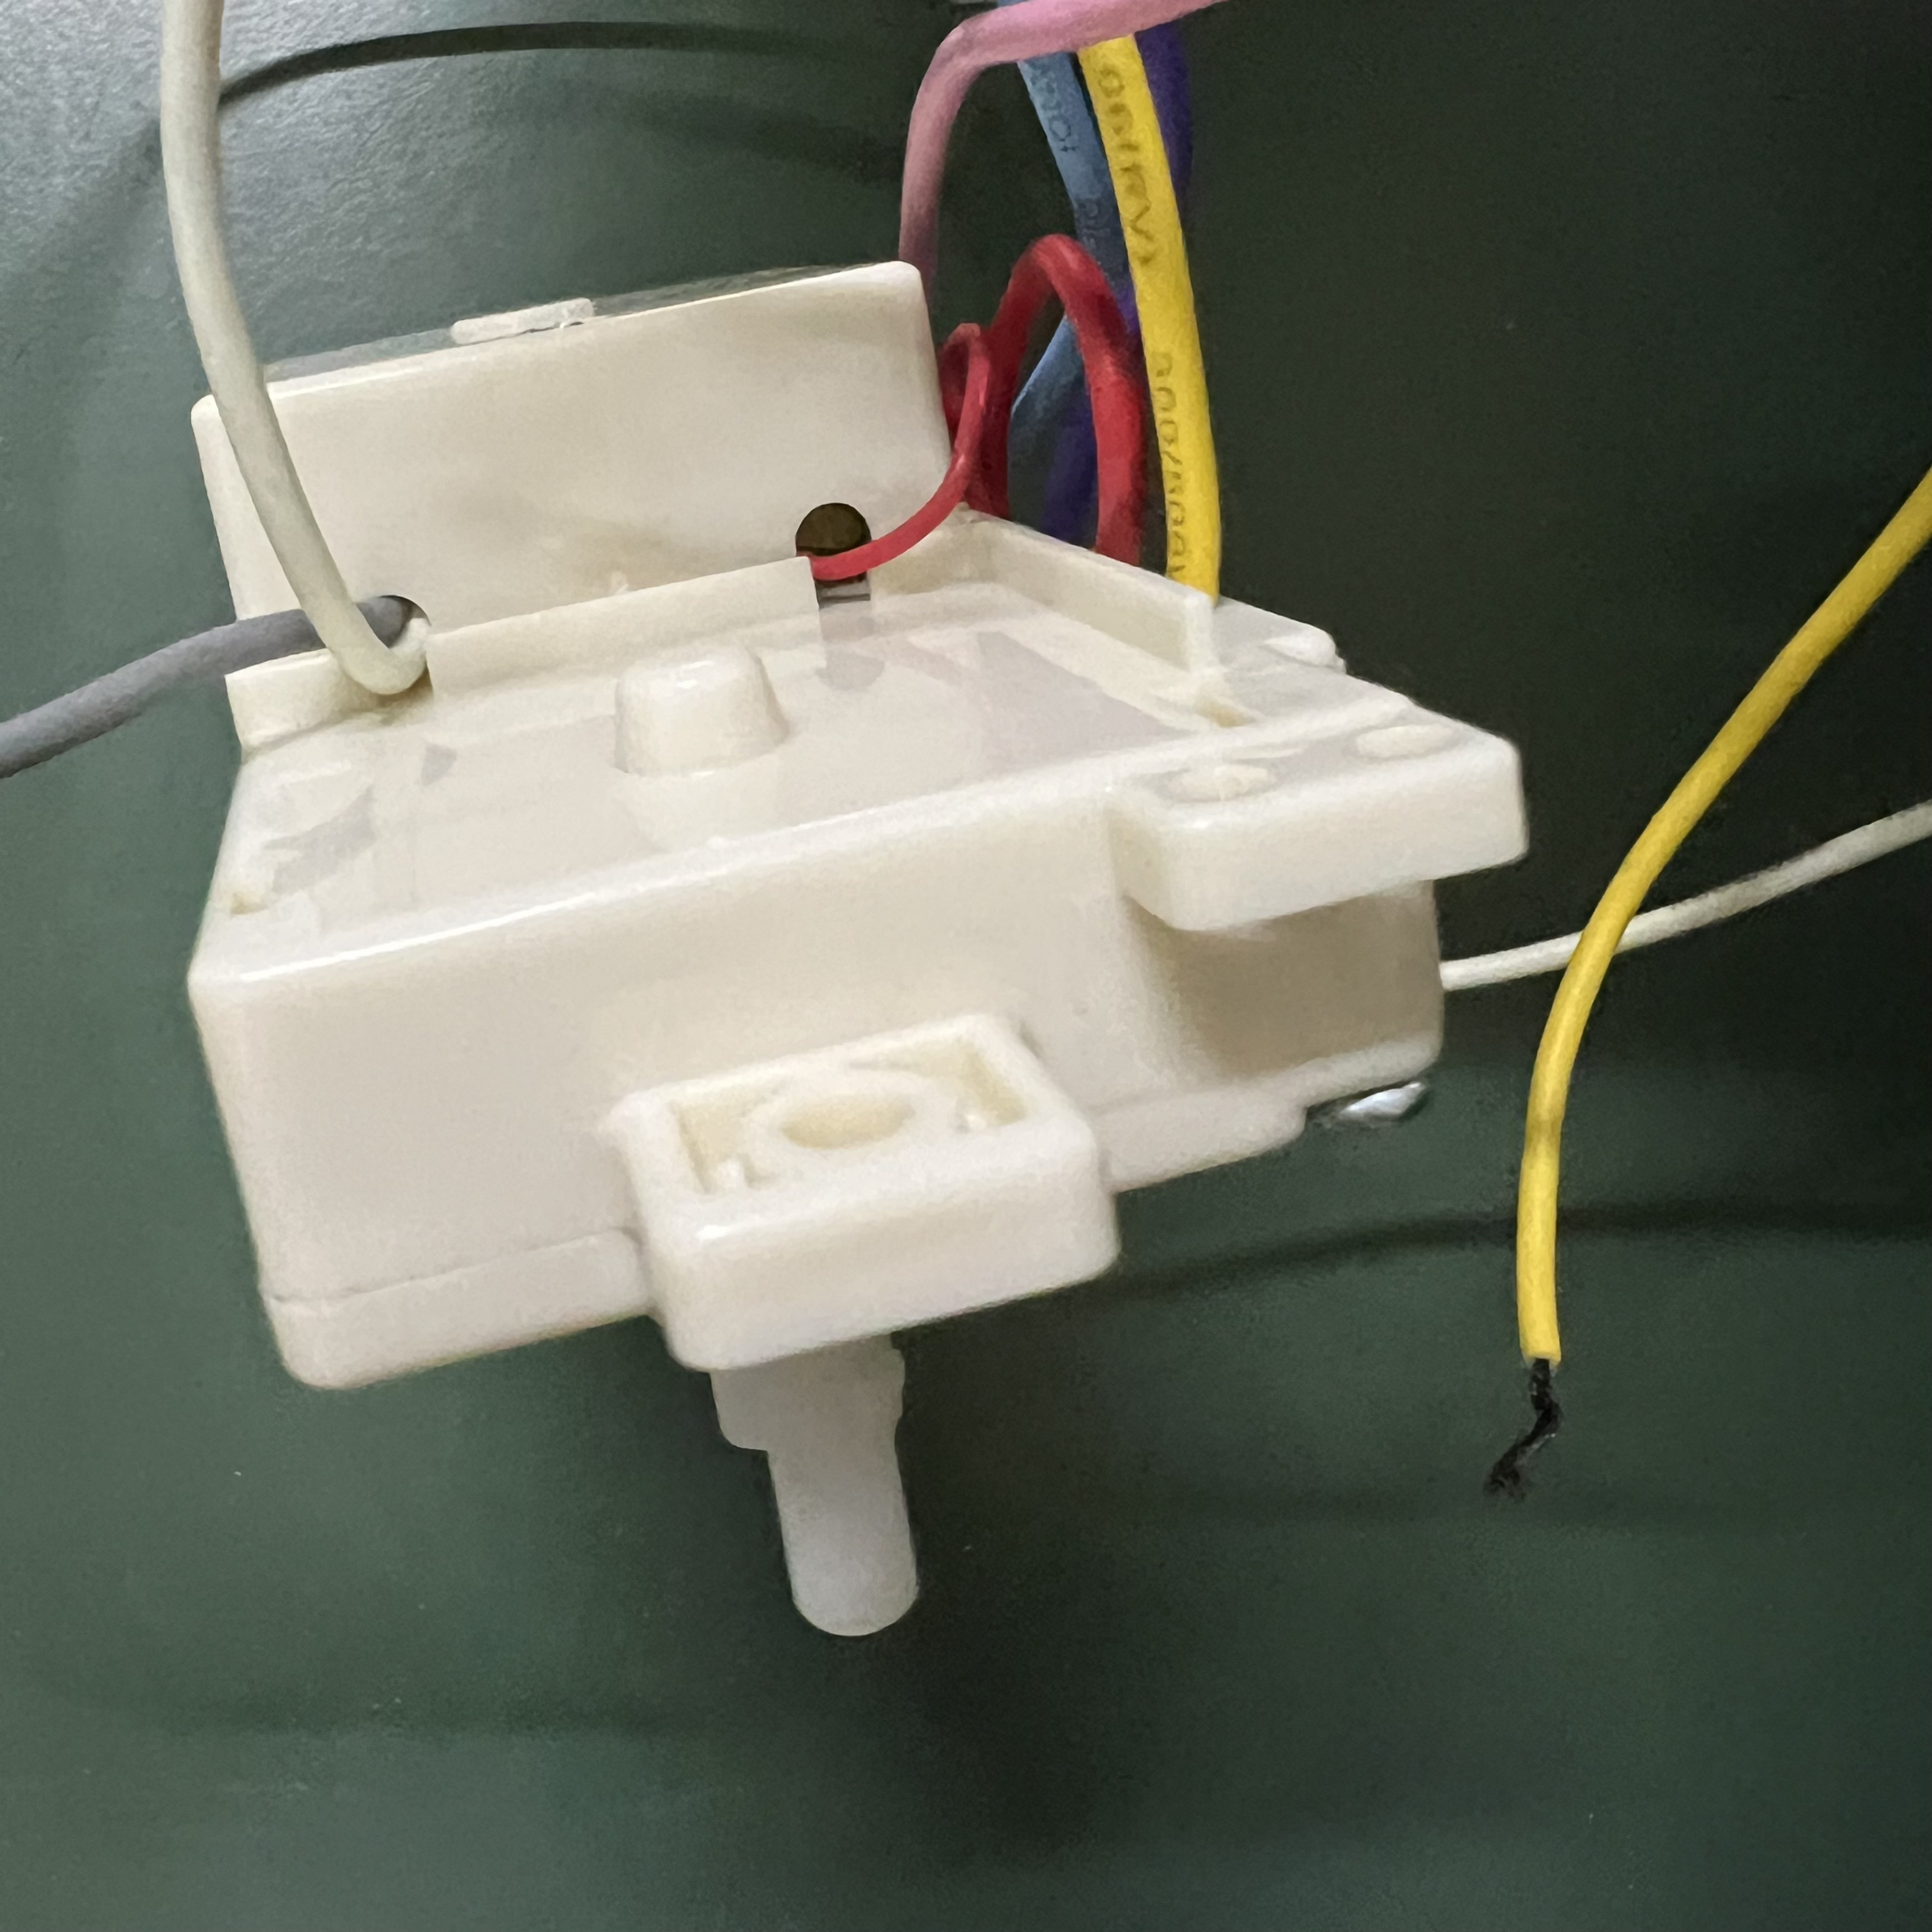rectangle_timer: (145, 237, 1580, 1624)
